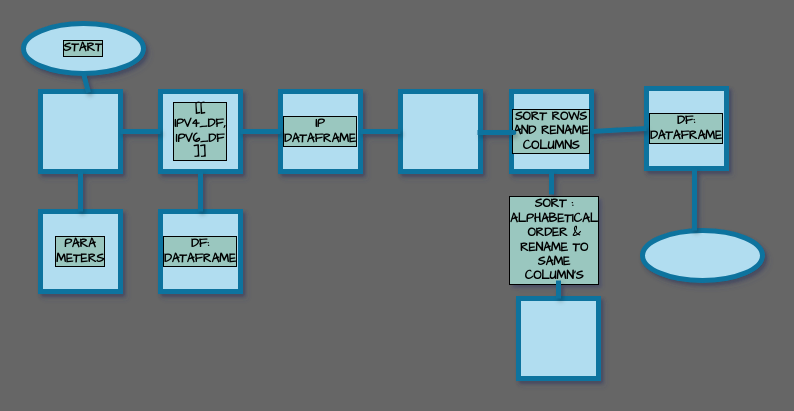
The diagram is 794 pixels wide and 411 high, and some of its shapes have lost their labels. The shapes that lost their labels are listed below. From the top down, each one's centre as x and y in pixels, then its label:
At pixel 81 132: "IP'S DATA FRAME".
At pixel 441 132: "DROP NAN & DUPLICATE ROWS".
At pixel 703 257: "STOP".
At pixel 559 340: "COLS_DF: [[ DNS_QUERY & DURATION ]]".
